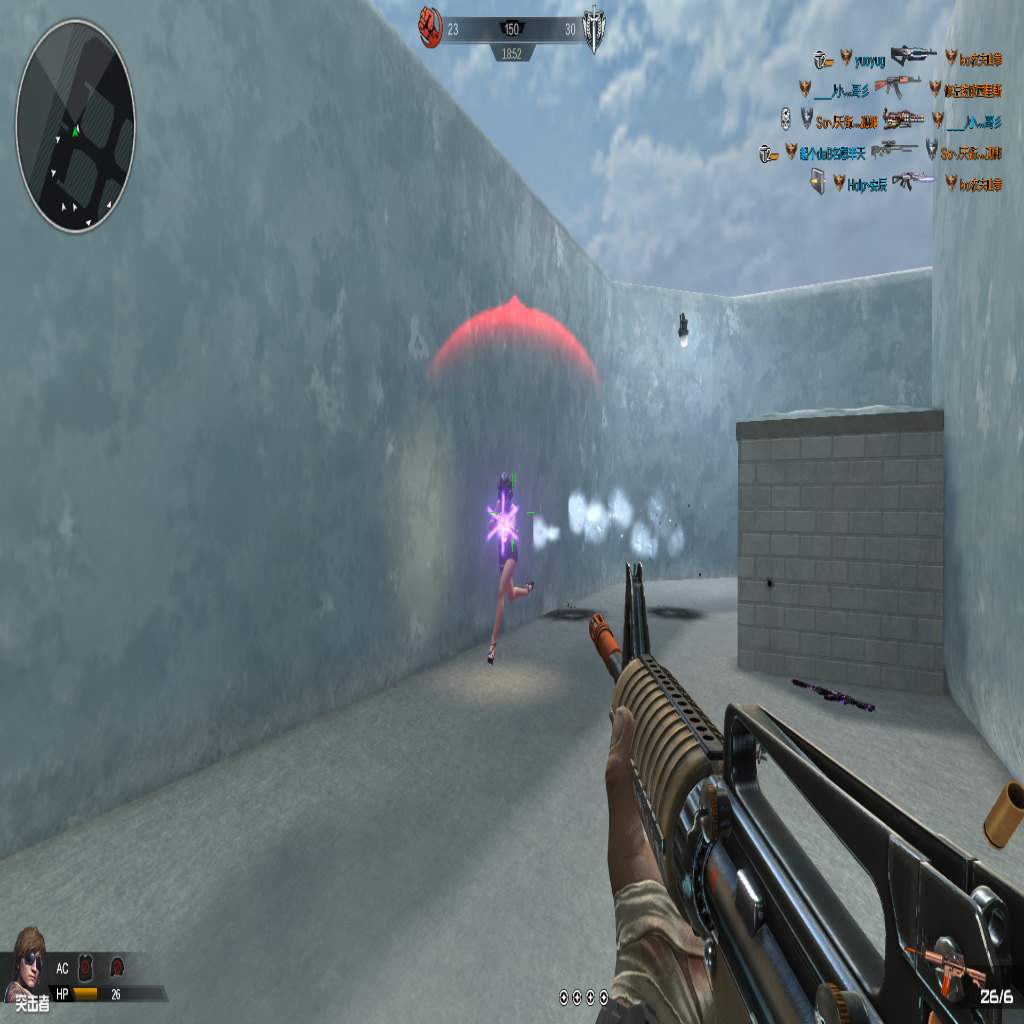ct: (486, 475, 531, 660)
